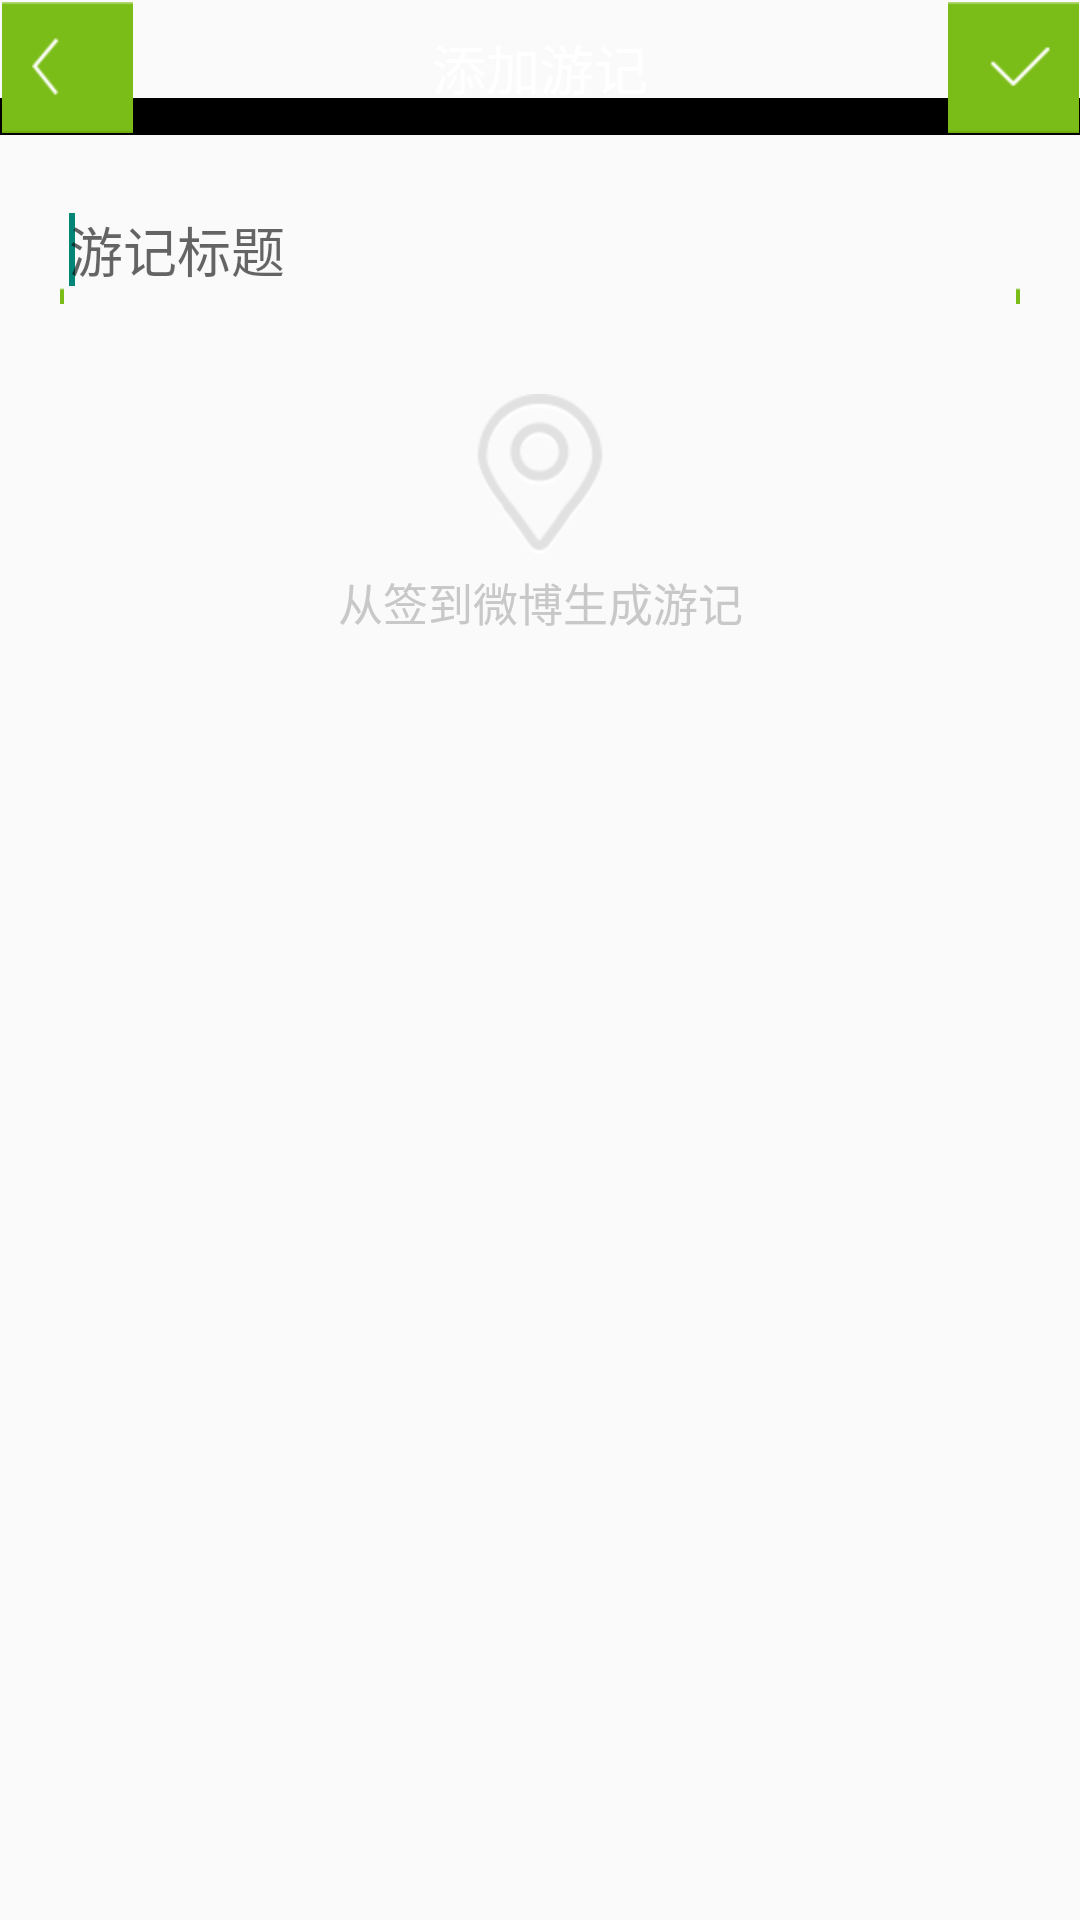

Screen size 1080w x 1920h. Icon name, then its center in pixels as [x,y]:
home back: [84,67]
